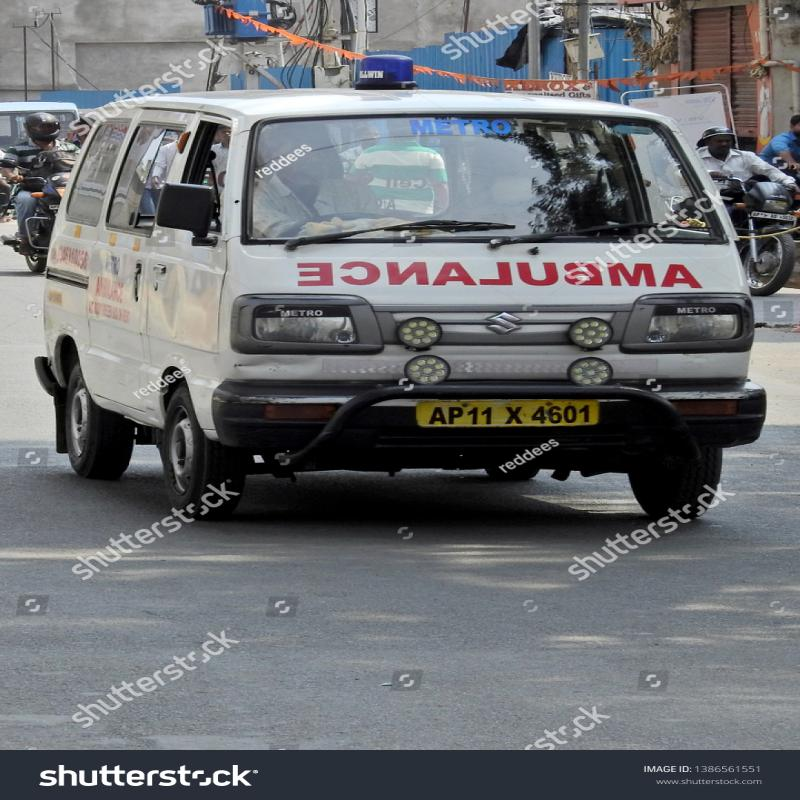ambulance: (45, 56, 773, 526)
